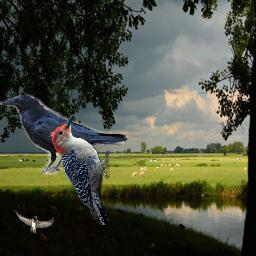Crow: (0, 94, 130, 176)
Swallow: (14, 210, 54, 234)
Woodpecker: (49, 114, 110, 225)
